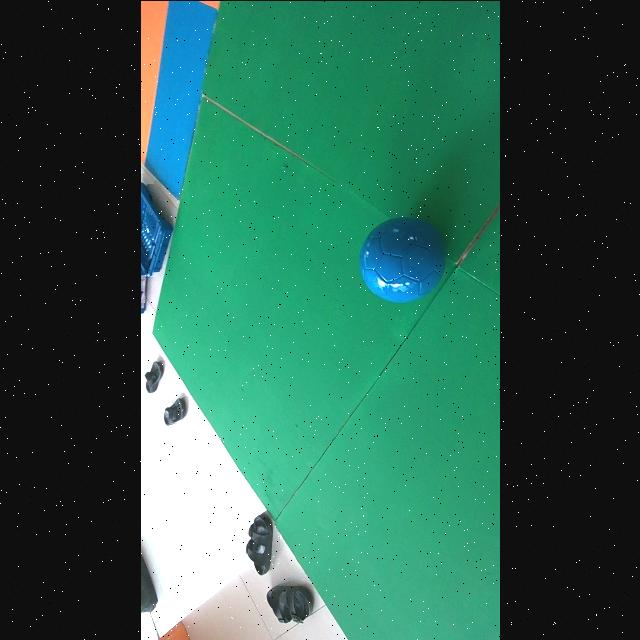B: (358, 217, 445, 302)
